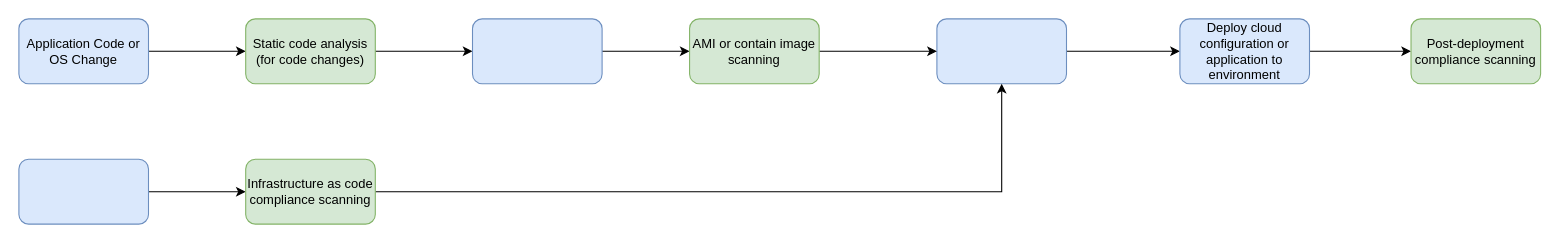
Image size: 1560x243. Some labels were removed from this diagram. Here are the shapes that lost their labels. From the top down, the centre of each, then its label:
the point at 536,51: Build Application Container or OS Image
the point at 1001,51: Update Cloud and Infrastructure Configuration
the point at 83,191: Infrastructure Code Change
